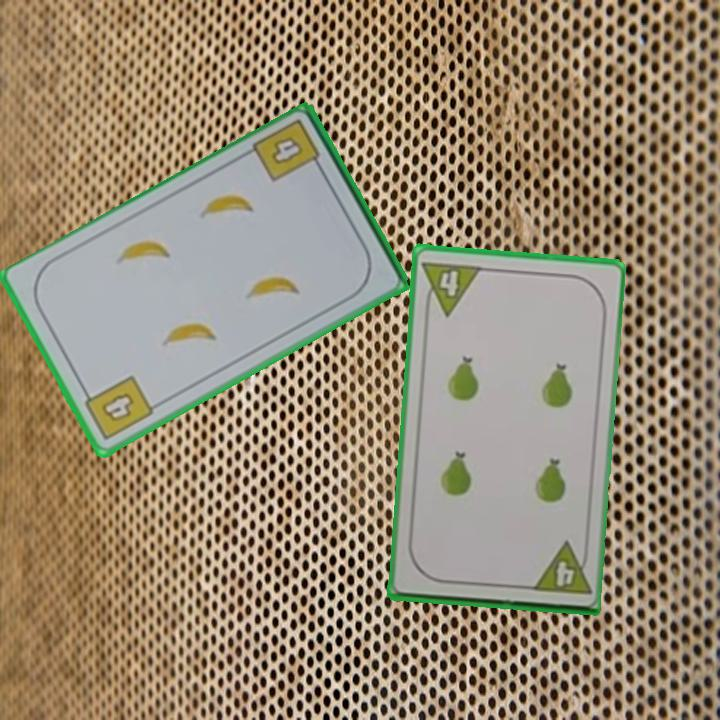4b: (79, 372, 157, 444), (249, 115, 327, 186)
4p: (419, 257, 484, 319), (527, 539, 593, 598)
